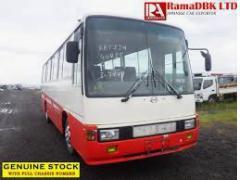bus: (39, 10, 199, 166)
